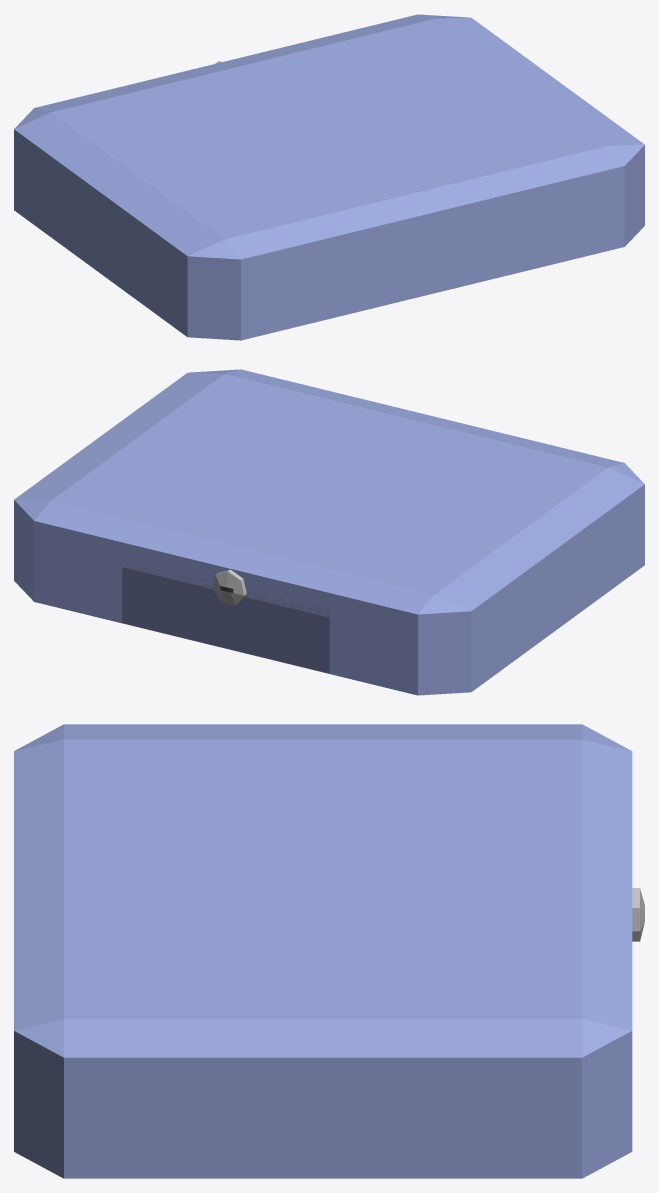
The model's file is compartimentoroda1.fbx.
3 renders of one model, top to bottom at view 1: azimuth 30°, elevation 25°; view 2: azimuth 150°, elevation 25°; view 3: azimuth 270°, elevation 25°, orthographic. The views are drawn at different scales.
Visible parts, largest first — view 1: Cube; view 2: Cube, Cube.001, Cylinder; view 3: Cube.
Part boxes in pixels (x1,y1,x2,y2): Cube: [14, 14, 644, 340]; Cube: [14, 369, 644, 695]; Cube.001: [122, 559, 329, 673]; Cylinder: [212, 569, 246, 605]; Cube: [14, 724, 632, 1178].
Size of the model in its own units: 457 by 92.19 by 365.
